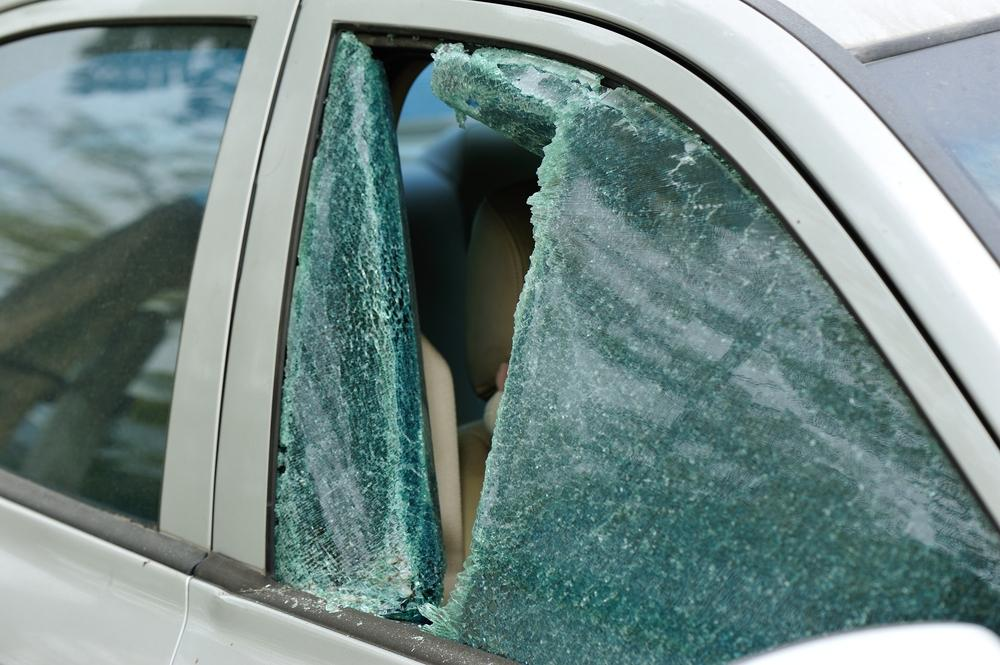glass shatter: (271, 27, 1000, 665)
